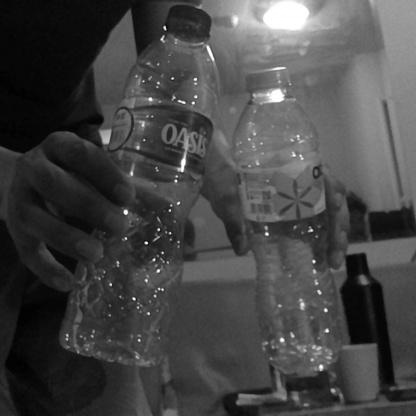plastic_bottles: (60, 6, 214, 365), (232, 68, 351, 371)
